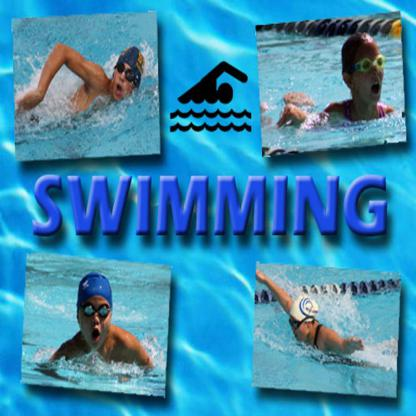face: (81, 284, 113, 352), (356, 43, 386, 107), (112, 55, 137, 98), (289, 311, 310, 341)
